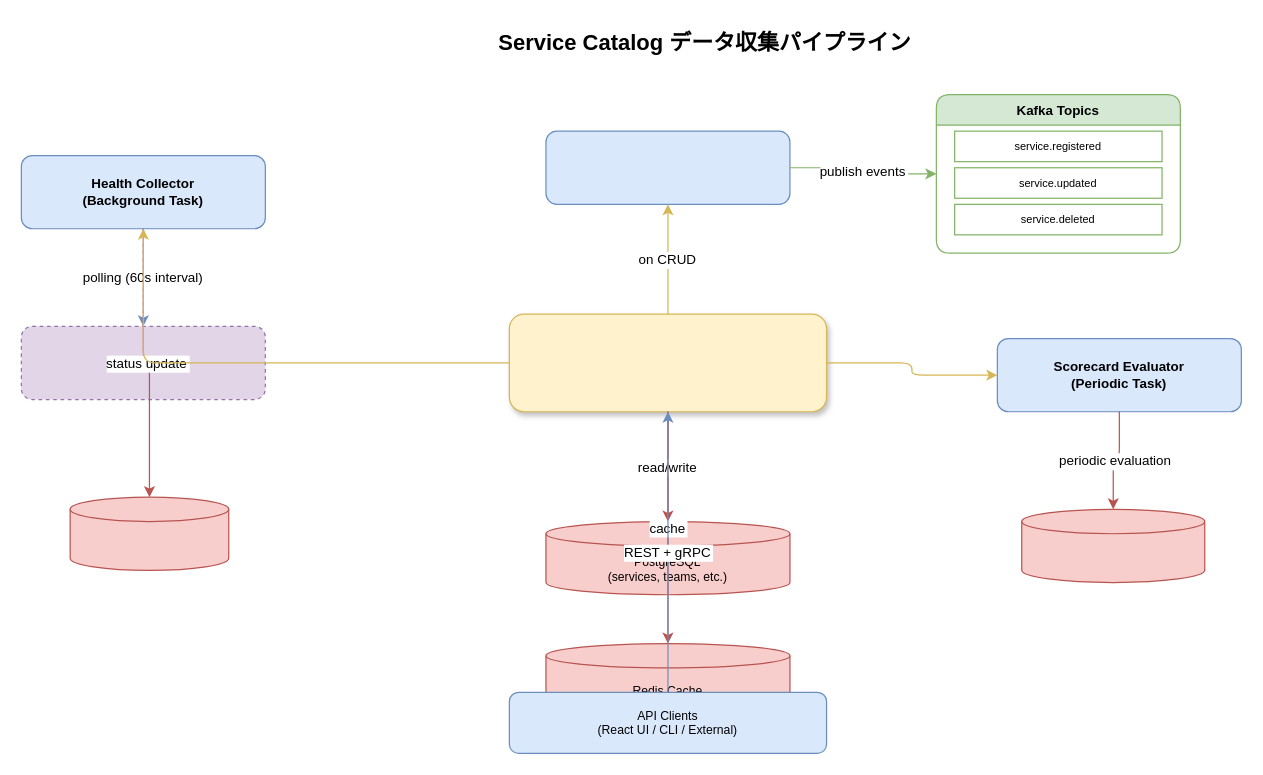
The diagram is 1263 pixels wide and 775 high, and some of its shapes have lost their labels. Each missing label, with the centre of its shape:
Event Publisher (Kafka Producer): the point at 667,167
External Services /healthz endpoints: the point at 142,362
Service Catalog Server (Rust / axum + tonic): the point at 668,364
service_health (PostgreSQL): the point at 149,533
service_scorecards (PostgreSQL): the point at 1113,545
